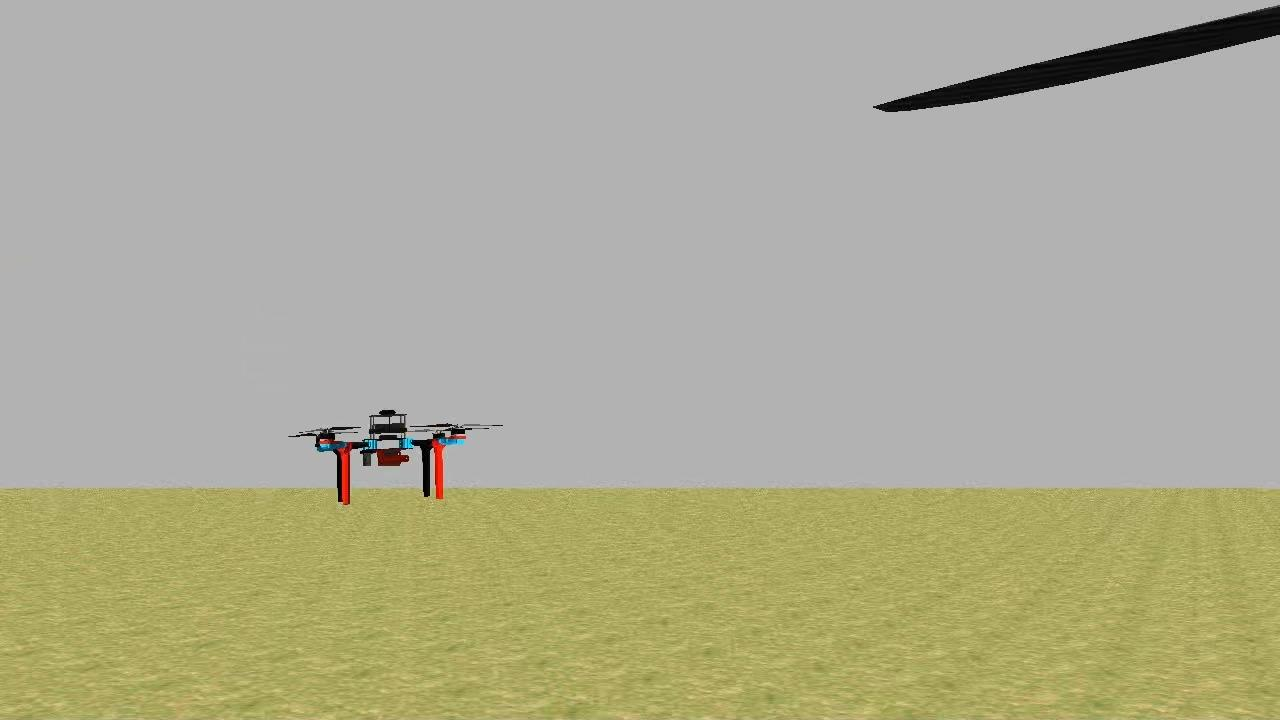UAV: (308, 402, 474, 508)
